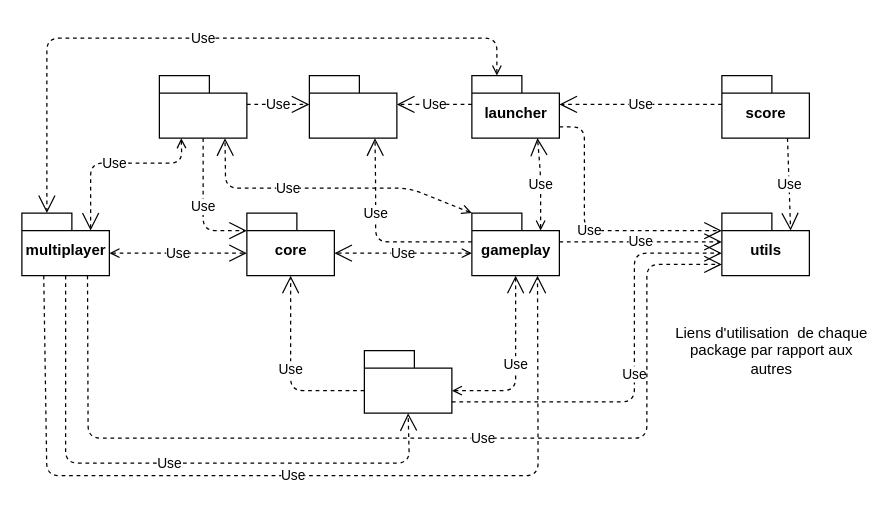
Image size: 894x515. Some labels were removed from this diagram. Each missing label, with the box of its shape:
AI: (363, 349, 452, 413)
graphics: (158, 74, 247, 138)
UI: (308, 74, 397, 138)
